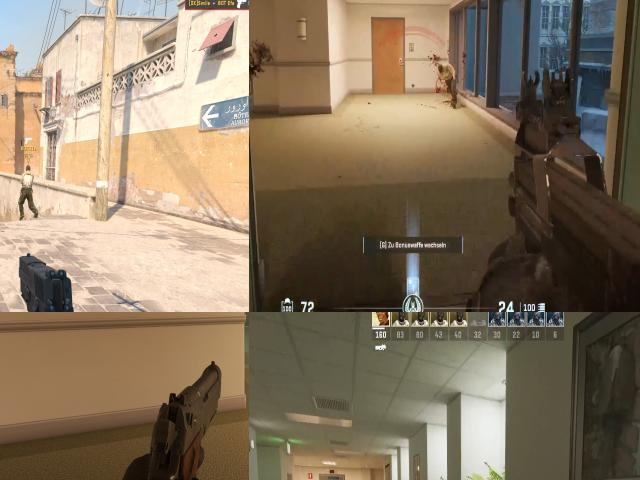Dead: (436, 61, 458, 103)
